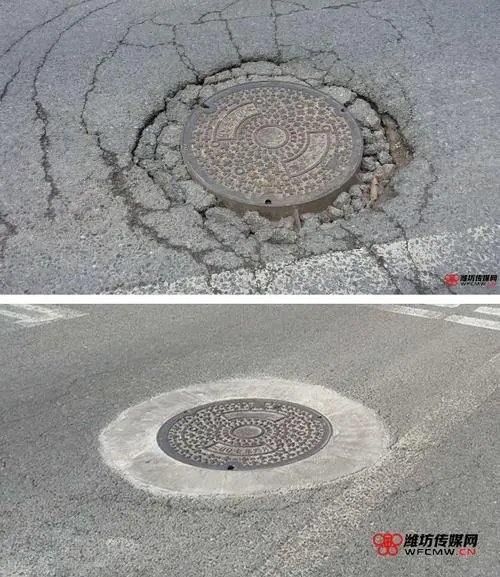circle: (114, 55, 437, 258)
